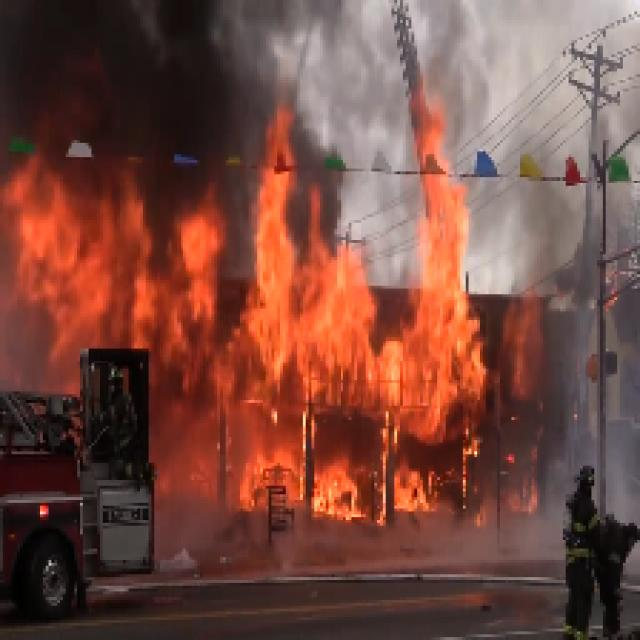fire: (12, 197, 468, 505)
smoke: (12, 13, 294, 174)
